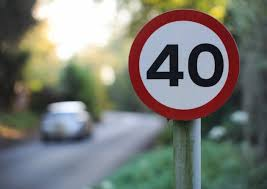Speed_limit_40km: (128, 11, 240, 119)
